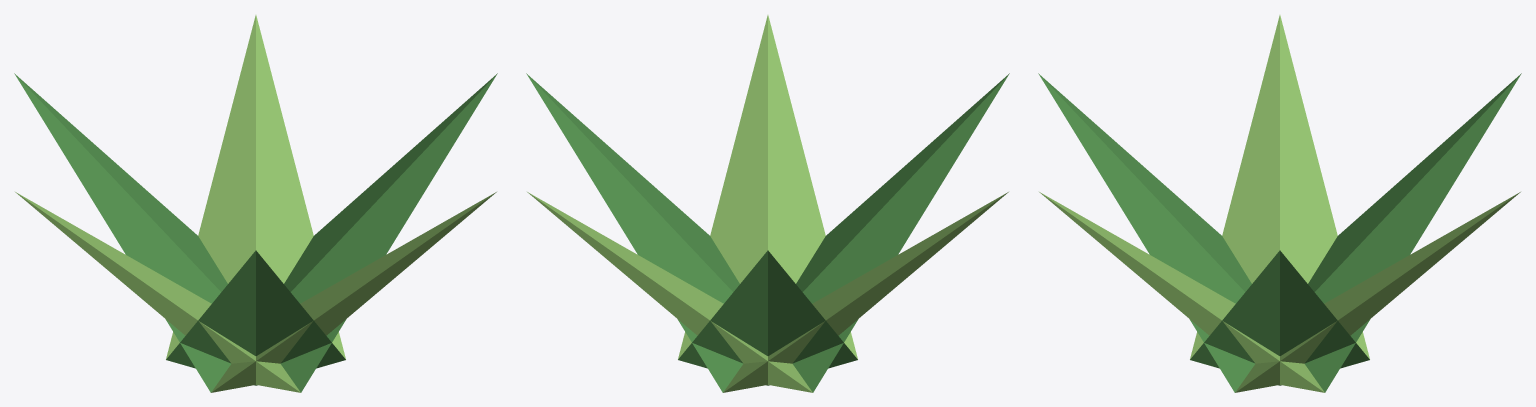
Rendered from broadleaf.glb.
3 views of the same model, side by side, from view 1: azimuth 30°, elevation 25°; view 2: azimuth 150°, elevation 25°; view 3: azimuth 270°, elevation 25° (orthographic).
Parts seen in each view (by area): view 1: jungle-broadleaf; view 2: jungle-broadleaf; view 3: jungle-broadleaf.
Boxes of the visible parts, x1,y1,x2,y2 form: jungle-broadleaf: (14, 15, 497, 392); jungle-broadleaf: (526, 15, 1009, 392); jungle-broadleaf: (1038, 15, 1521, 392).
Bounding box in the file's own units: 0.7433 × 0.3612 × 0.6437.
